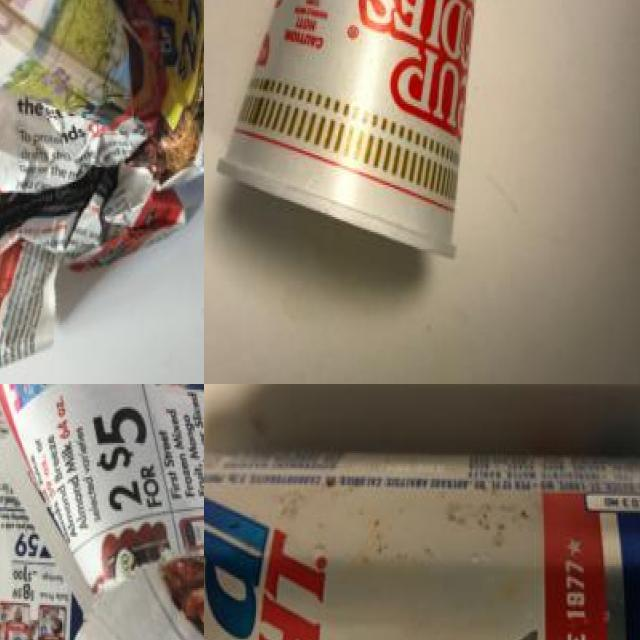paper: (0, 0, 204, 361), (0, 384, 204, 640)
plastic: (204, 444, 640, 640)
trash: (204, 0, 542, 287)
